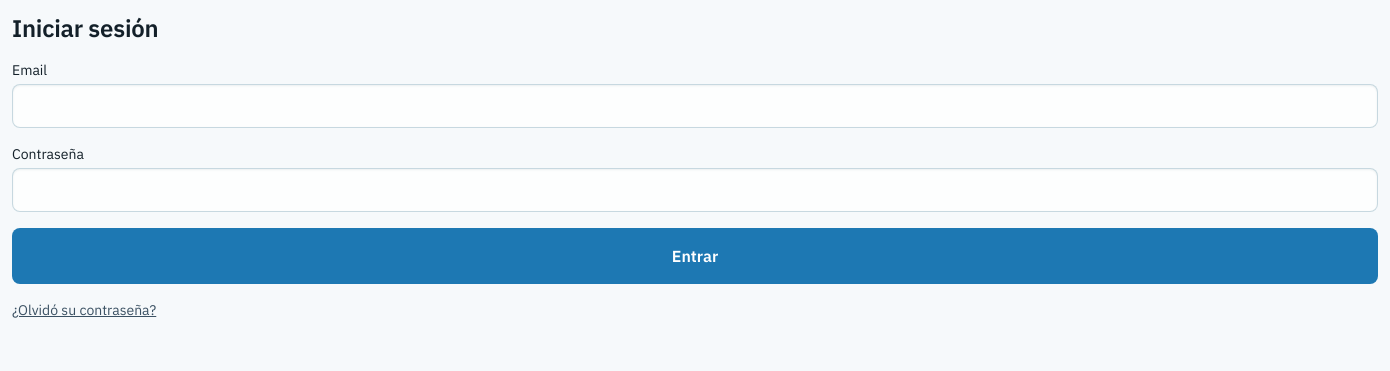
Test: <LoginForm /> › muestra en pantalla el error que devuelve la action
In the field labelled "Email": (695, 106) x1=12 y1=84 x2=1378 y2=128, type "ana@aquazaku.com"
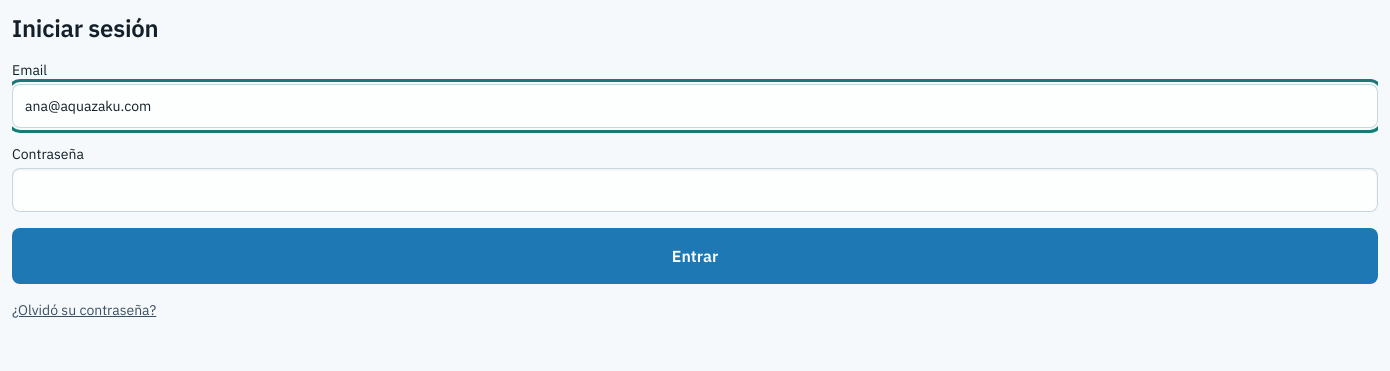
In the password field labelled "Contraseña": (695, 190) x1=12 y1=168 x2=1378 y2=212, type "mala"
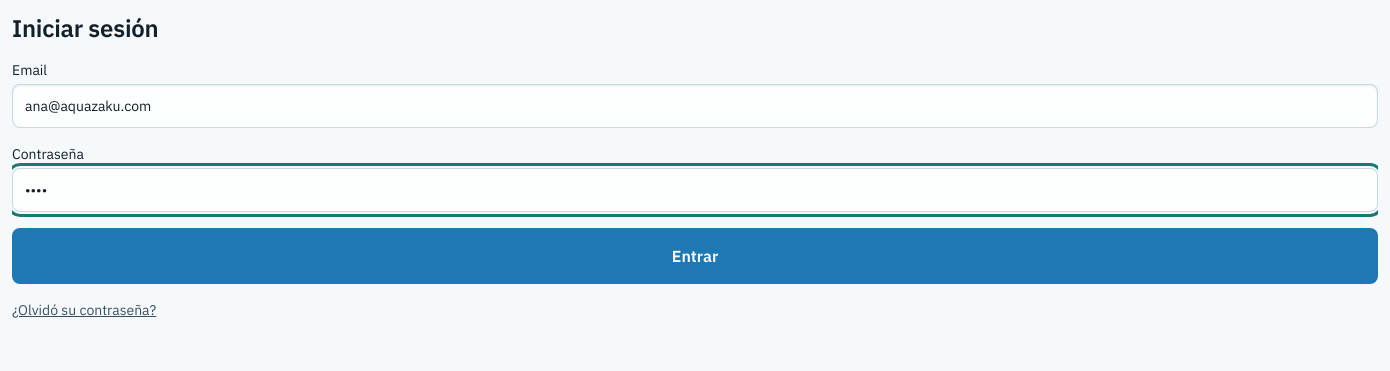
Click the button "Entrar": (695, 256) x1=12 y1=228 x2=1378 y2=284
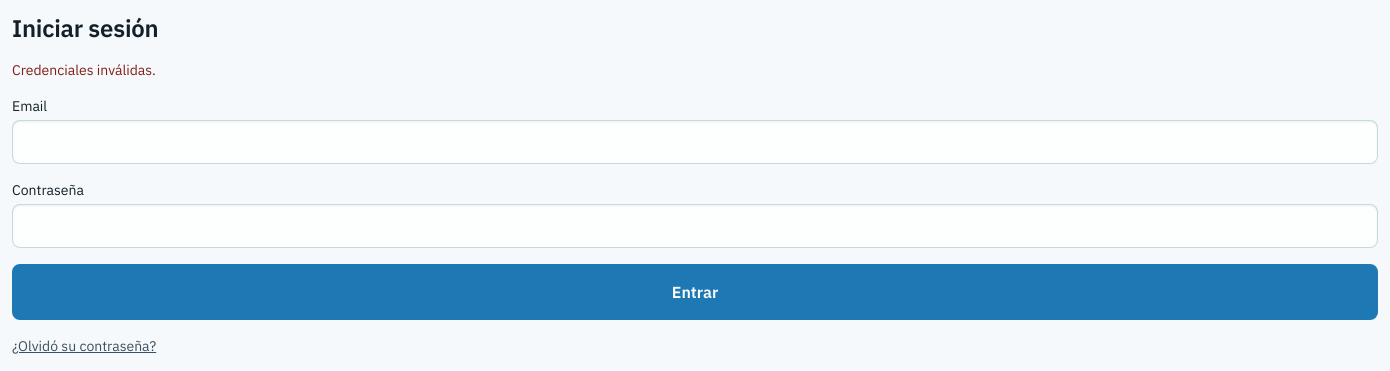
Expected: the message reads "Credenciales inválidas.", x1=12 y1=61 x2=156 y2=79
